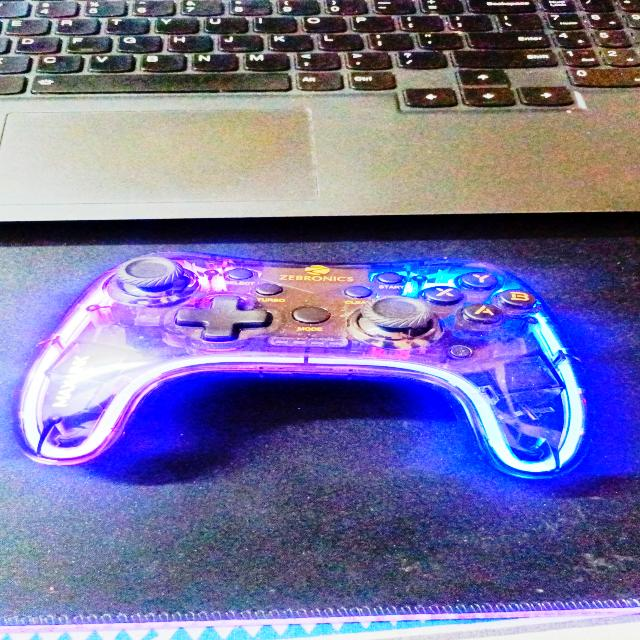gamepad: (10, 250, 596, 480)
